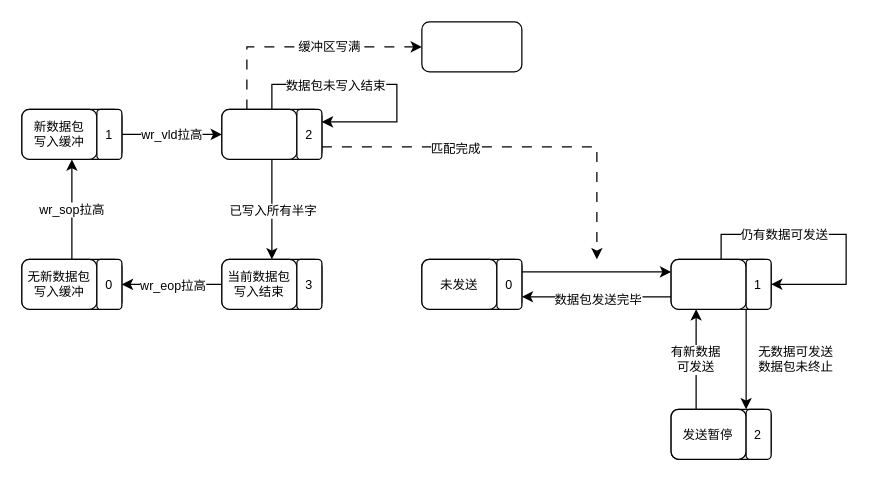
The diagram is 879 pixels wide and 481 high, and some of its shapes have lost their labels. Each missing label, with the centre of its shape:
发送中: (x=708, y=283)
拉高pause: (x=471, y=46)
持续写入 数据: (x=259, y=133)
